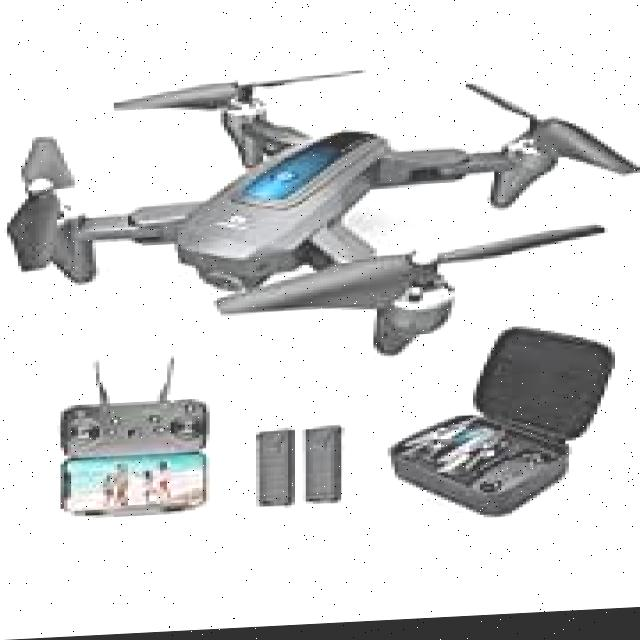drone: (11, 33, 640, 391)
